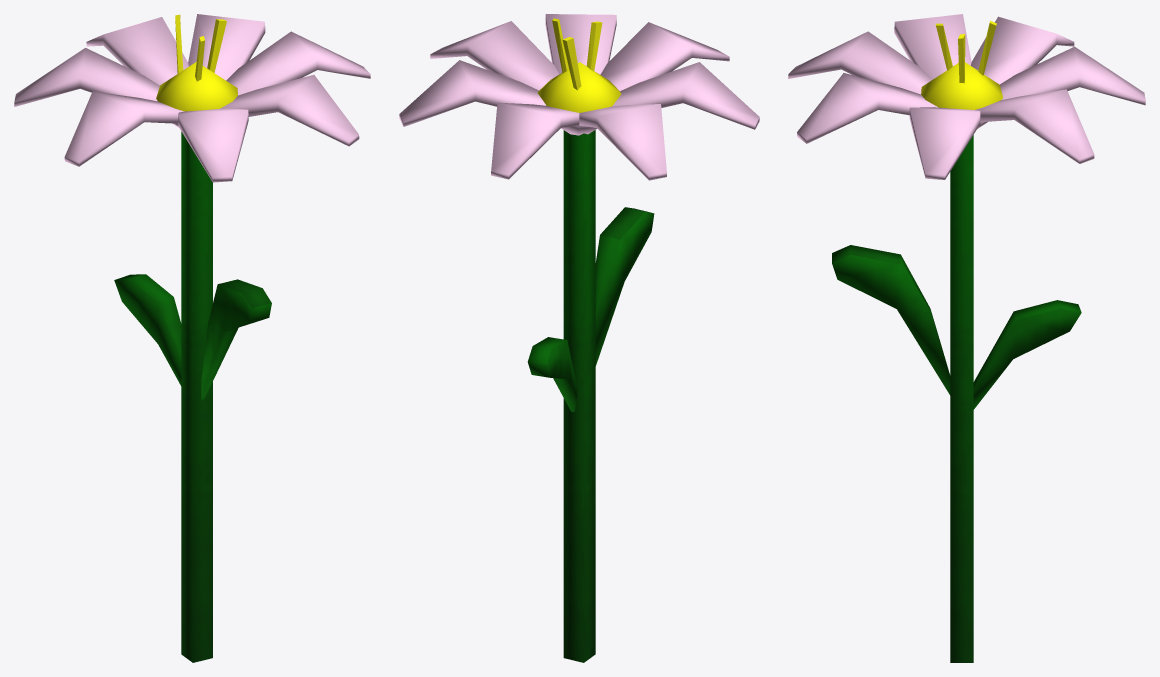
File: lily.002.fbx
The picture shows the model from 3 angles, left to right: view 1: azimuth 30°, elevation 25°; view 2: azimuth 150°, elevation 25°; view 3: azimuth 270°, elevation 25°; orthographic projection.
Parts seen in each view (by area): view 1: lily.002; view 2: lily.002; view 3: lily.002.
Boxes of the visible parts, x1,y1,x2,y2 form: lily.002: (14, 14, 370, 662); lily.002: (399, 14, 759, 662); lily.002: (788, 14, 1145, 662).
Size of the model in its own units: 0.3136 by 0.6066 by 0.3101.
